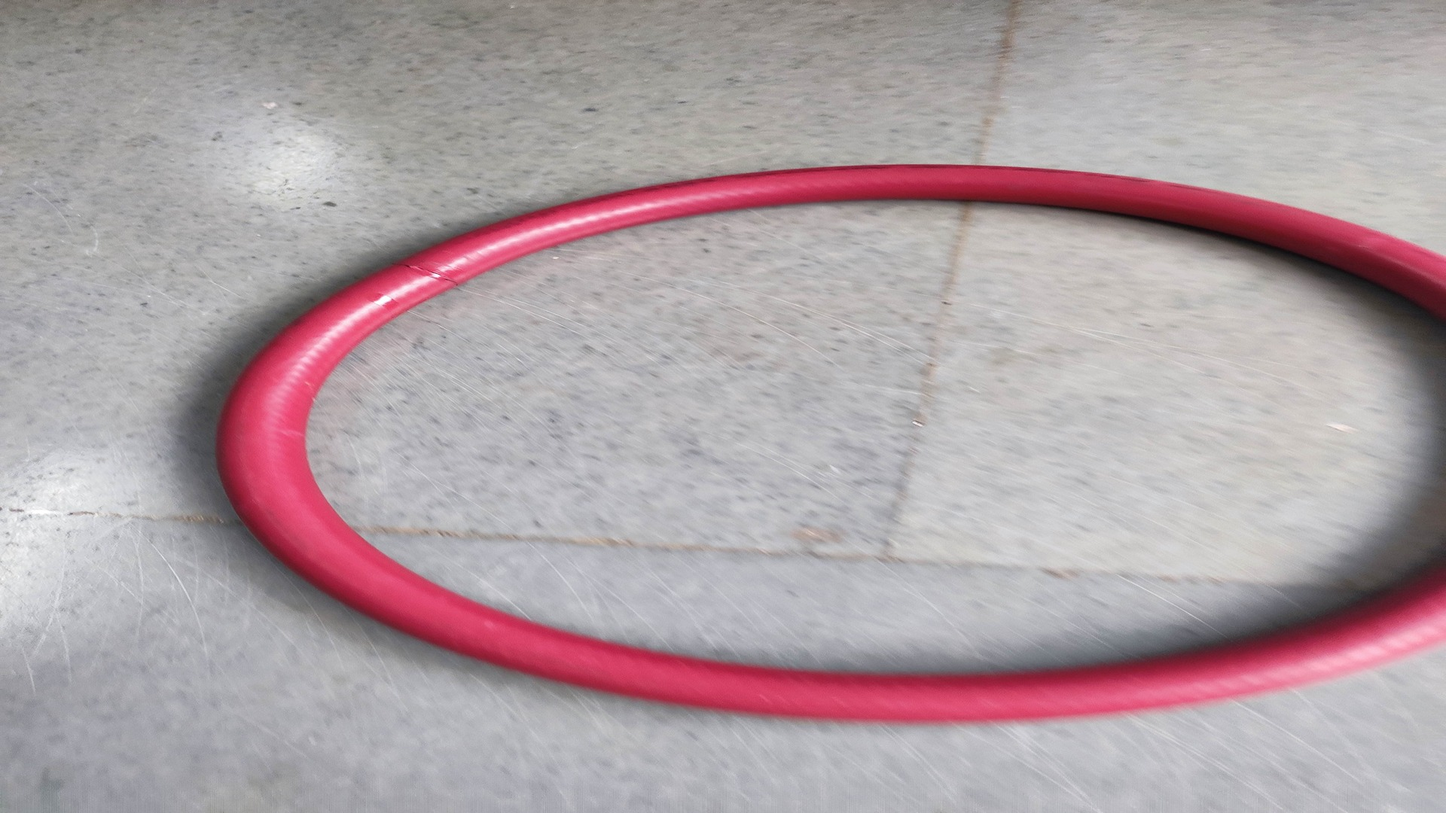Red ring: (215, 164, 1445, 720)
